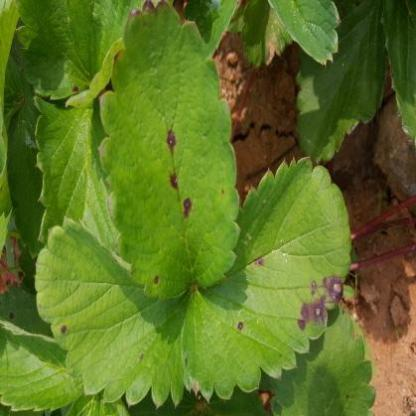Strawberry_Leaf_Spot: (98, 0, 241, 303), (183, 155, 352, 402), (34, 215, 192, 410), (14, 0, 148, 109)
